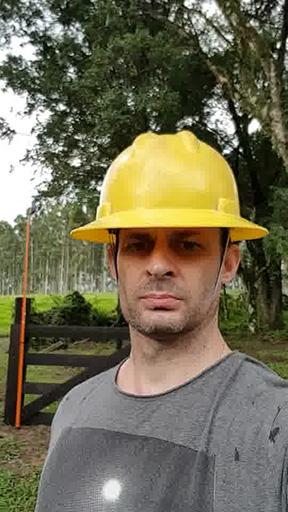Vara_Manobra: (14, 216, 32, 428)
